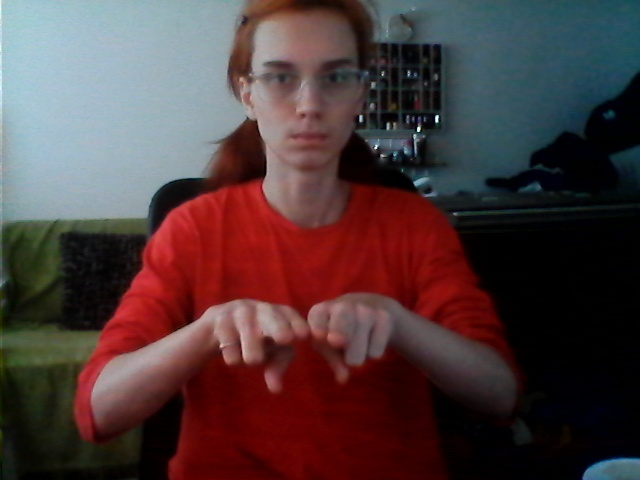brat: (207, 290, 409, 391)
